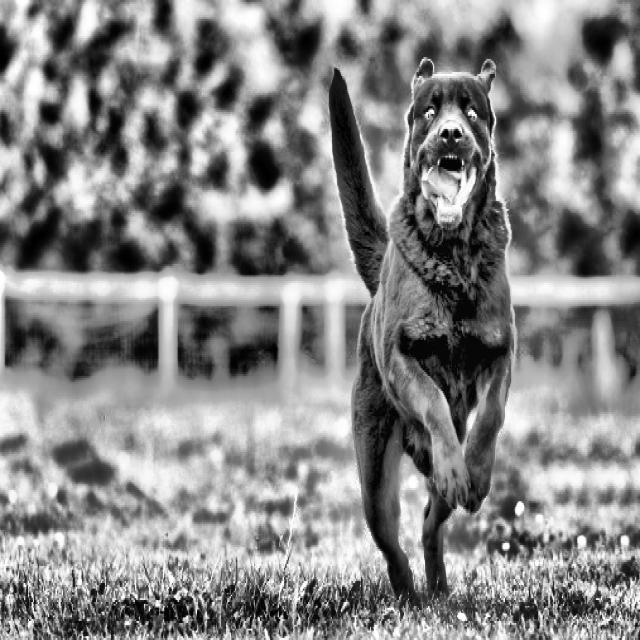rottweiler: (386, 33, 528, 279)
